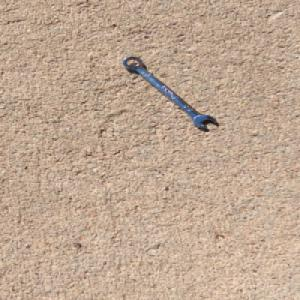Wrench: (119, 56, 217, 130)
